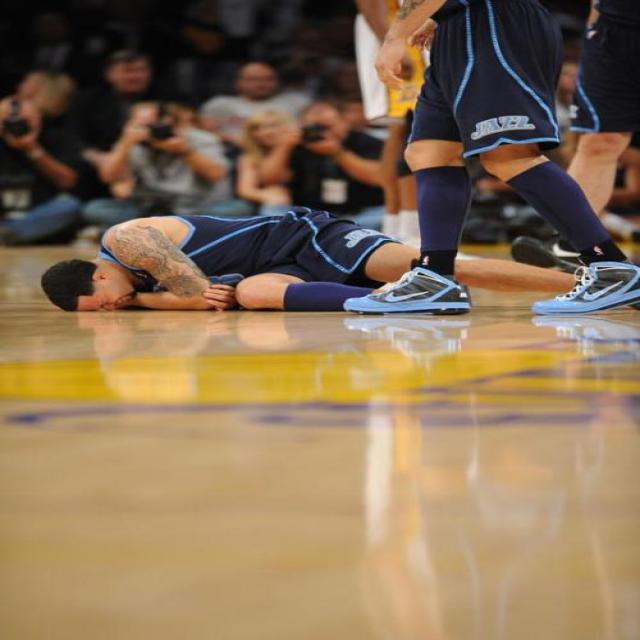10-: (0, 4, 639, 344)
down: (28, 178, 398, 333)
